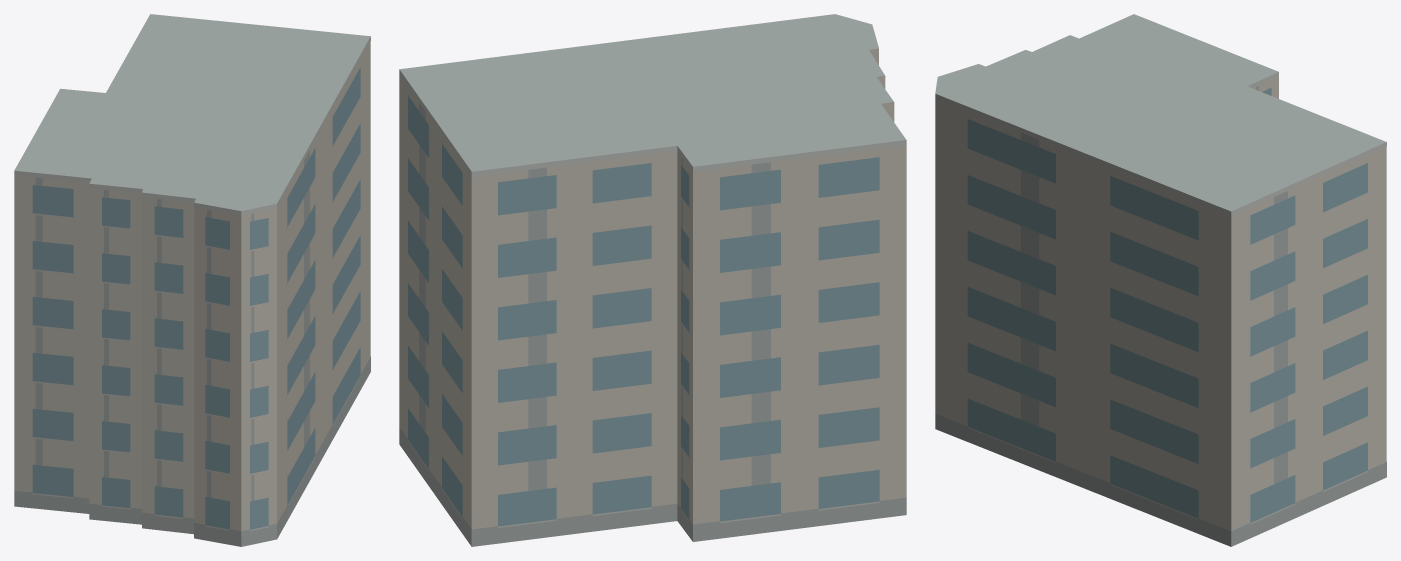
Rendered from survey-upis-32883269.glb.
The picture shows the model from 3 angles, left to right: view 1: azimuth 30°, elevation 25°; view 2: azimuth 150°, elevation 25°; view 3: azimuth 270°, elevation 25°; orthographic projection. The views are drawn at different scales.
Parts seen in each view (by area): view 1: survey-upis-32883269.tmp; view 2: survey-upis-32883269.tmp; view 3: survey-upis-32883269.tmp.
Boxes of the visible parts, bbox=[...] form: survey-upis-32883269.tmp: bbox=[14, 14, 370, 546]; survey-upis-32883269.tmp: bbox=[399, 14, 906, 546]; survey-upis-32883269.tmp: bbox=[935, 14, 1386, 546].
Bounding box in the file's own units: 21.86 × 17.3 × 21.12.
